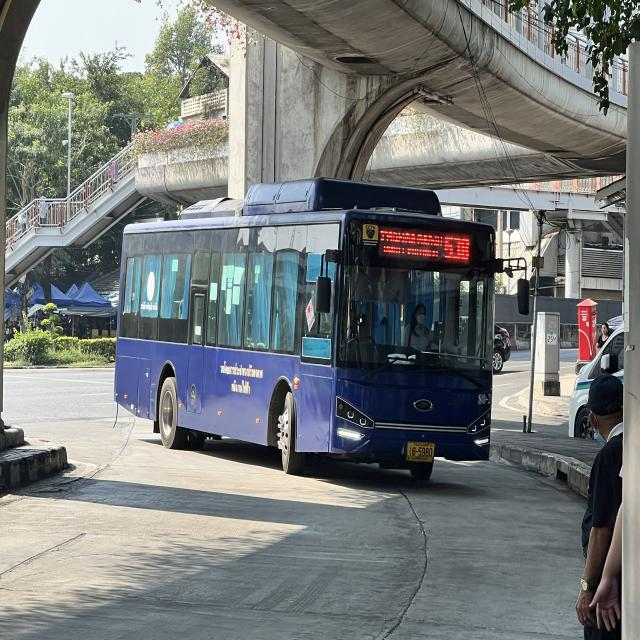Bus-Line-Number: (442, 230, 472, 266)
Destination-Sign-Normal: (378, 225, 444, 264)
TSB-Bus: (113, 180, 501, 484)
